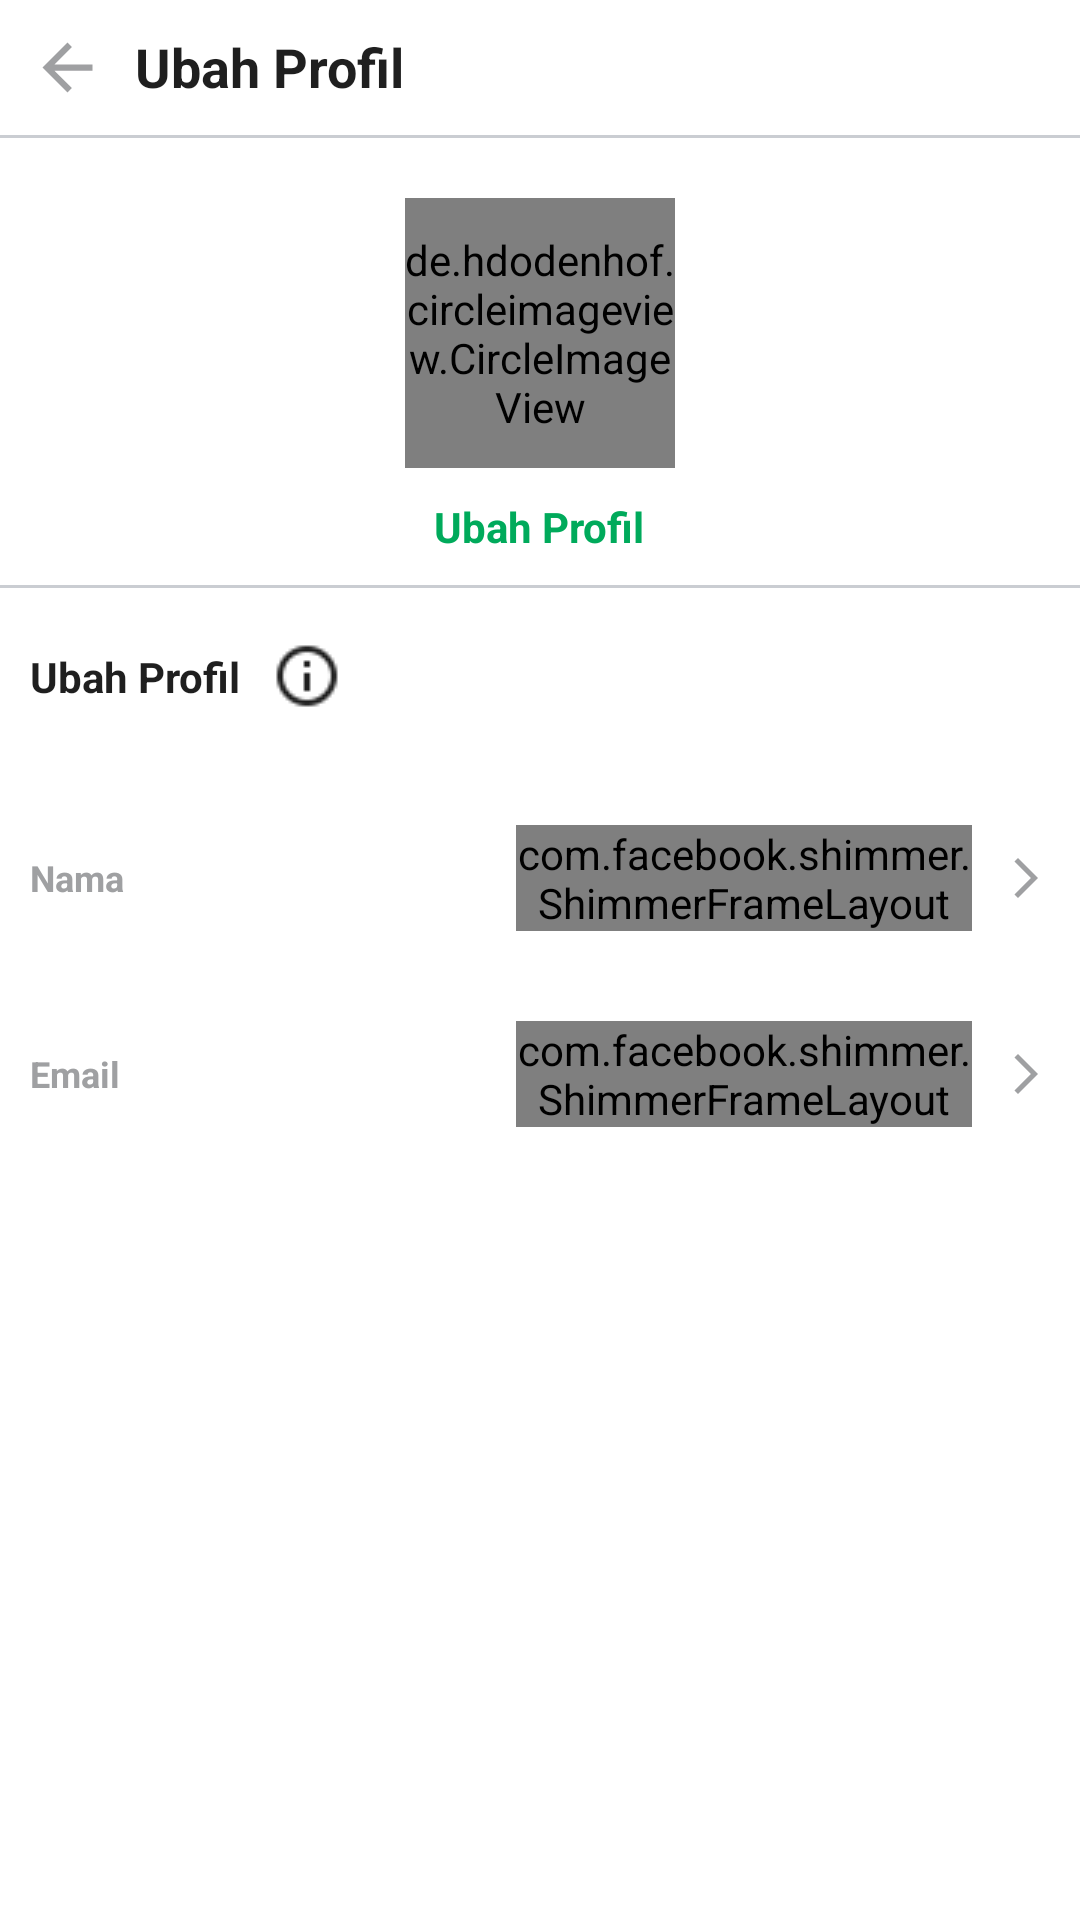

Screen size 1080px x 1920px. Icon name, then its box in pixels as (x1, y1, x2, y2):
arrrow right: (1014, 858, 1038, 898), (1014, 1054, 1038, 1094)
back: (43, 43, 93, 92)
info: (276, 645, 338, 707)
